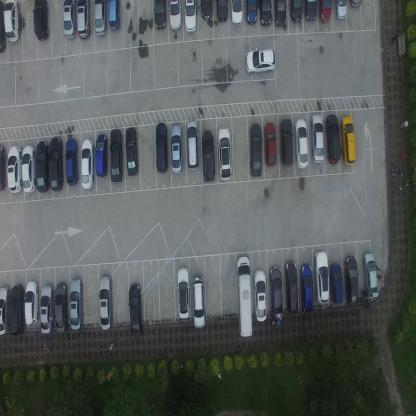car: (236, 255, 252, 337), (245, 47, 276, 75), (2, 0, 21, 45), (127, 283, 143, 336), (314, 251, 330, 304), (98, 274, 113, 330), (340, 114, 356, 166), (217, 126, 232, 181), (324, 113, 340, 164), (109, 127, 123, 184), (69, 277, 84, 330), (9, 283, 24, 336), (344, 255, 359, 308), (362, 250, 378, 299), (49, 136, 63, 192), (249, 122, 263, 177), (201, 128, 215, 183), (40, 283, 55, 334), (284, 260, 298, 314), (269, 266, 283, 319), (35, 140, 49, 193), (24, 280, 40, 326), (192, 276, 206, 328), (155, 122, 169, 174), (54, 281, 68, 333), (80, 138, 94, 190), (310, 112, 324, 163), (125, 126, 139, 177), (7, 144, 21, 195), (33, 0, 50, 42), (177, 268, 191, 318), (300, 264, 314, 314), (21, 143, 35, 193), (186, 118, 199, 171), (170, 122, 183, 175), (280, 117, 294, 166), (294, 119, 308, 168), (254, 270, 267, 322), (65, 138, 79, 186), (329, 263, 344, 304), (63, 0, 78, 41), (264, 121, 277, 167), (95, 133, 108, 178), (77, 0, 91, 41), (94, 0, 108, 38), (0, 285, 10, 337), (168, 0, 182, 33), (109, 0, 121, 34), (273, 0, 287, 29), (184, 0, 196, 33), (154, 0, 167, 30), (0, 0, 7, 54), (259, 0, 272, 27), (318, 0, 333, 23), (231, 0, 243, 27), (304, 0, 318, 23), (245, 0, 257, 26), (334, 0, 348, 22), (290, 0, 303, 23), (0, 143, 6, 192), (216, 0, 228, 23), (200, 0, 213, 21), (349, 0, 363, 11)
